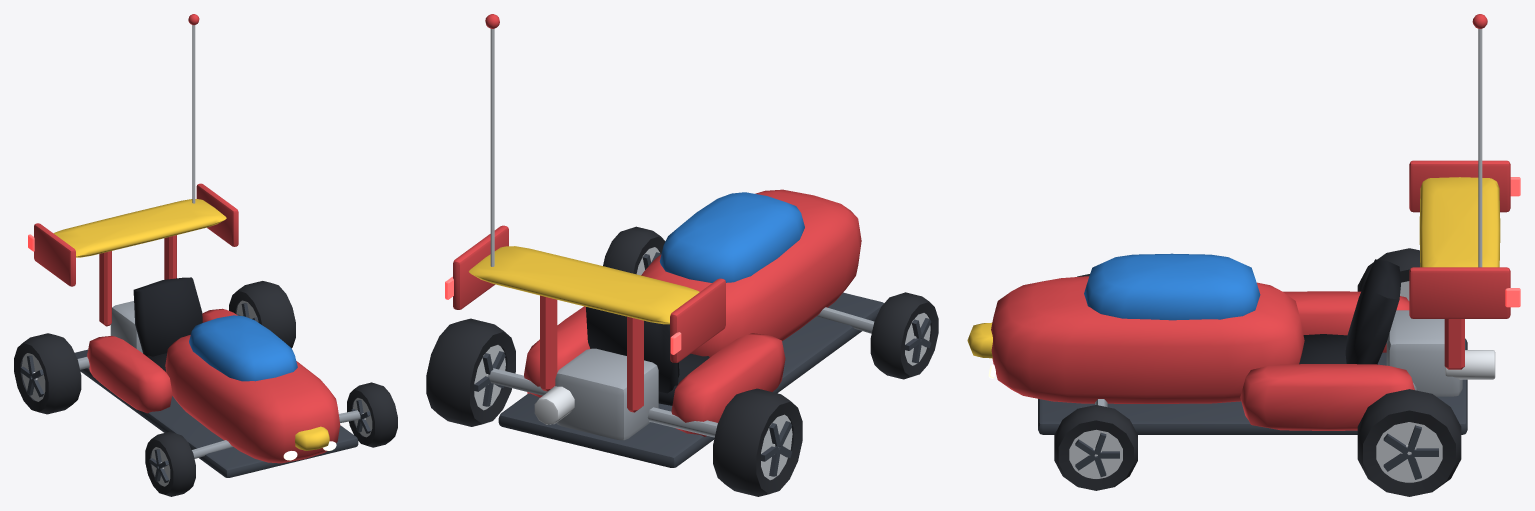
Rendered from kart_antena.glb.
3 renders of one model, left to right at view 1: azimuth 30°, elevation 25°; view 2: azimuth 150°, elevation 25°; view 3: azimuth 270°, elevation 25°, orthographic. The views are drawn at different scales.
Visible parts, largest first — view 1: kart_antena, roda_traseira_esq, roda_dianteira_esq, roda_traseira_dir, roda_dianteira_dir; view 2: kart_antena, roda_traseira_esq, roda_traseira_dir, roda_dianteira_esq, roda_dianteira_dir; view 3: kart_antena, roda_traseira_dir, roda_dianteira_dir, roda_traseira_esq.
Boxes of the visible parts, <box> form: kart_antena: <box>28,14,360,477</box>; roda_traseira_esq: <box>14,333,81,414</box>; roda_dianteira_esq: <box>145,431,195,496</box>; roda_traseira_dir: <box>229,281,295,348</box>; roda_dianteira_dir: <box>347,382,397,447</box>; kart_antena: <box>445,14,883,467</box>; roda_traseira_esq: <box>713,388,802,496</box>; roda_traseira_dir: <box>426,318,515,426</box>; roda_dianteira_esq: <box>870,292,938,379</box>; roda_dianteira_dir: <box>603,226,665,275</box>; kart_antena: <box>967,14,1520,434</box>; roda_traseira_dir: <box>1357,389,1461,496</box>; roda_dianteira_dir: <box>1054,405,1137,490</box>; roda_traseira_esq: <box>1357,248,1420,300</box>.
Size of the model in its own units: 1.52 by 1.96 by 2.19.
3 materials, 1 textured.
